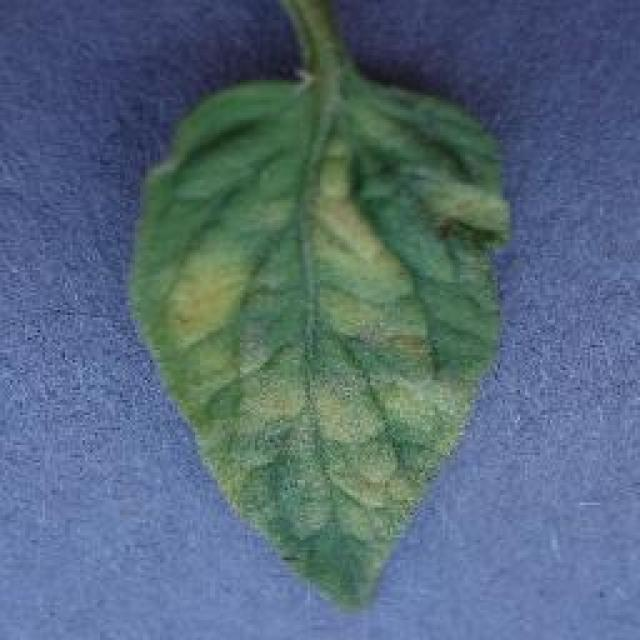leaf mold: (127, 0, 510, 602)
